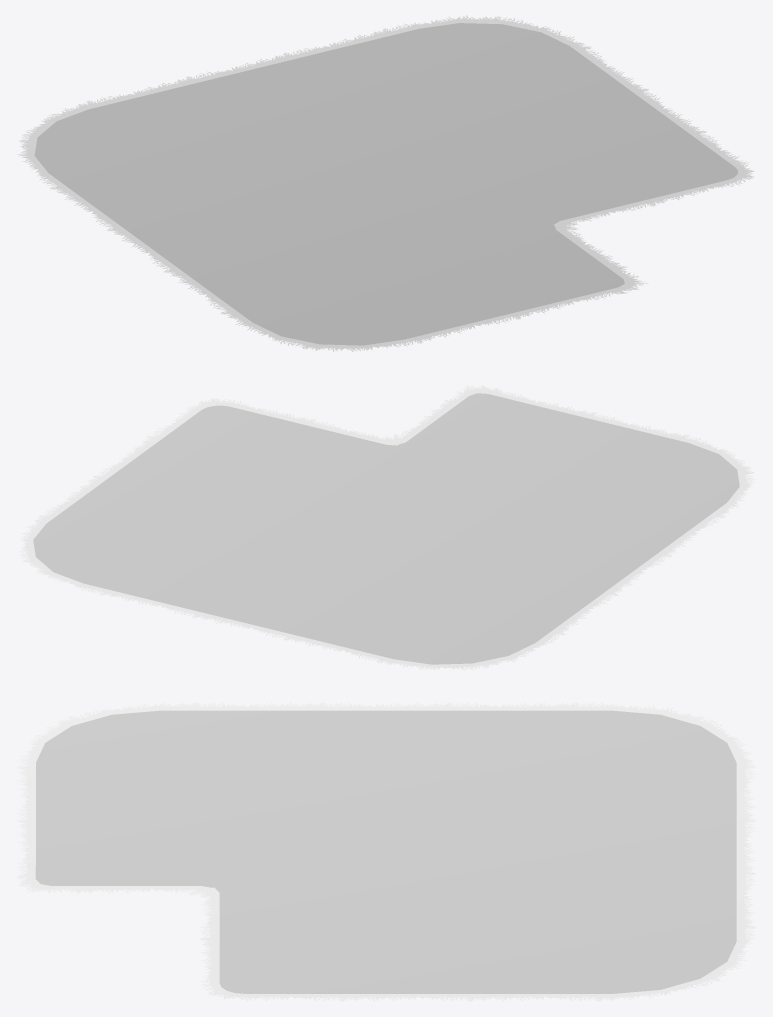
Rendered from ParkGrassPlane.fbx.
The picture shows the model from 3 angles, top to bottom: view 1: azimuth 30°, elevation 25°; view 2: azimuth 150°, elevation 25°; view 3: azimuth 270°, elevation 25°; orthographic projection. The views are drawn at different scales.
Parts seen in each view (by area): view 1: ParkGrass; view 2: ParkGrass; view 3: ParkGrass.
Part boxes in pixels (x1,y1,x2,y2): ParkGrass: (17, 15, 754, 352); ParkGrass: (19, 385, 755, 670); ParkGrass: (16, 702, 756, 1001).
Bounding box in the file's own units: 2069 × 5.12 × 2159.
